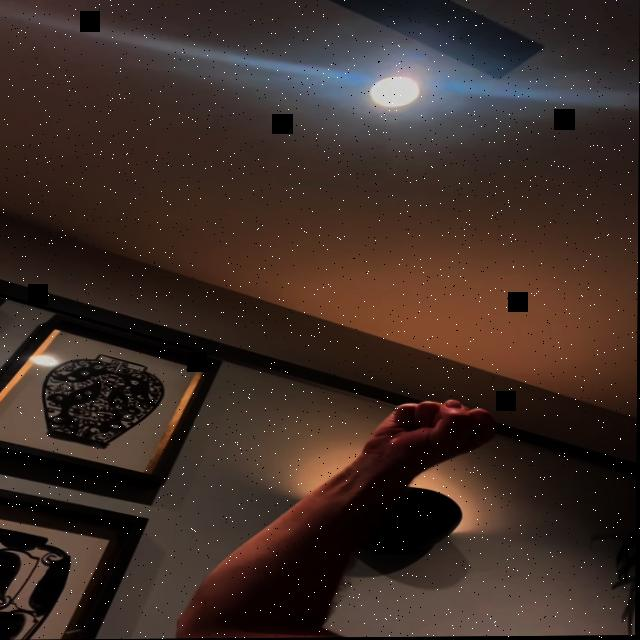Rock: (364, 399, 502, 463)
